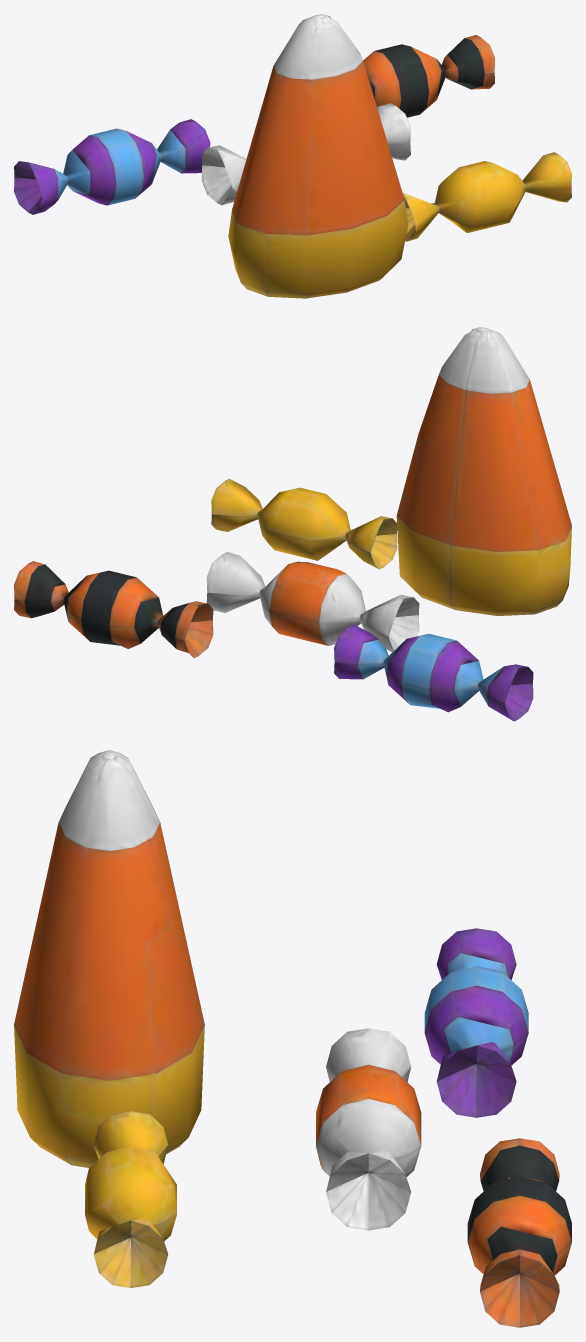
The model's file is candy-pile.lod.glb.
3 views of the same model, one above another, from view 1: azimuth 30°, elevation 25°; view 2: azimuth 150°, elevation 25°; view 3: azimuth 270°, elevation 25° (orthographic). The views are drawn at different scales.
Visible parts, largest first — view 1: candyA; view 2: candyA; view 3: candyA.
Boxes of the visible parts, x1=… form: candyA: x1=14, y1=14, x2=571, y2=298; candyA: x1=14, y1=327, x2=571, y2=721; candyA: x1=14, y1=750, x2=571, y2=1327.
Size of the model in its own units: 1.81 by 0.9451 by 1.29.
1 material, 1 textured.
